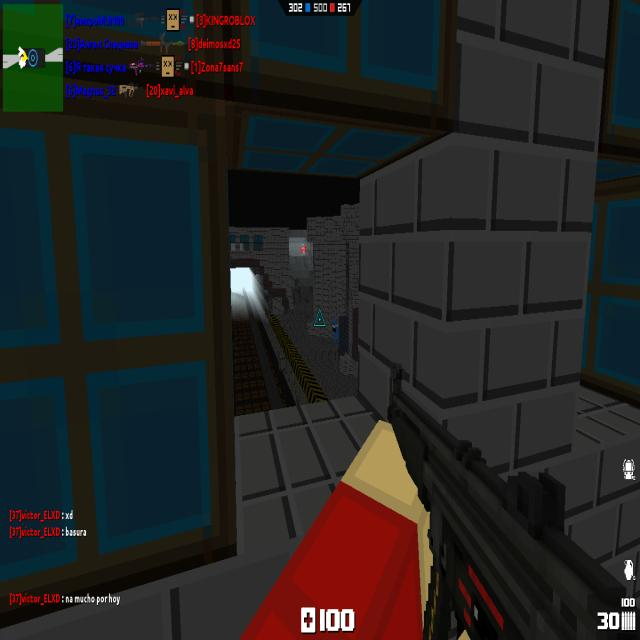enemy: (331, 318, 340, 344), (301, 243, 306, 257)
